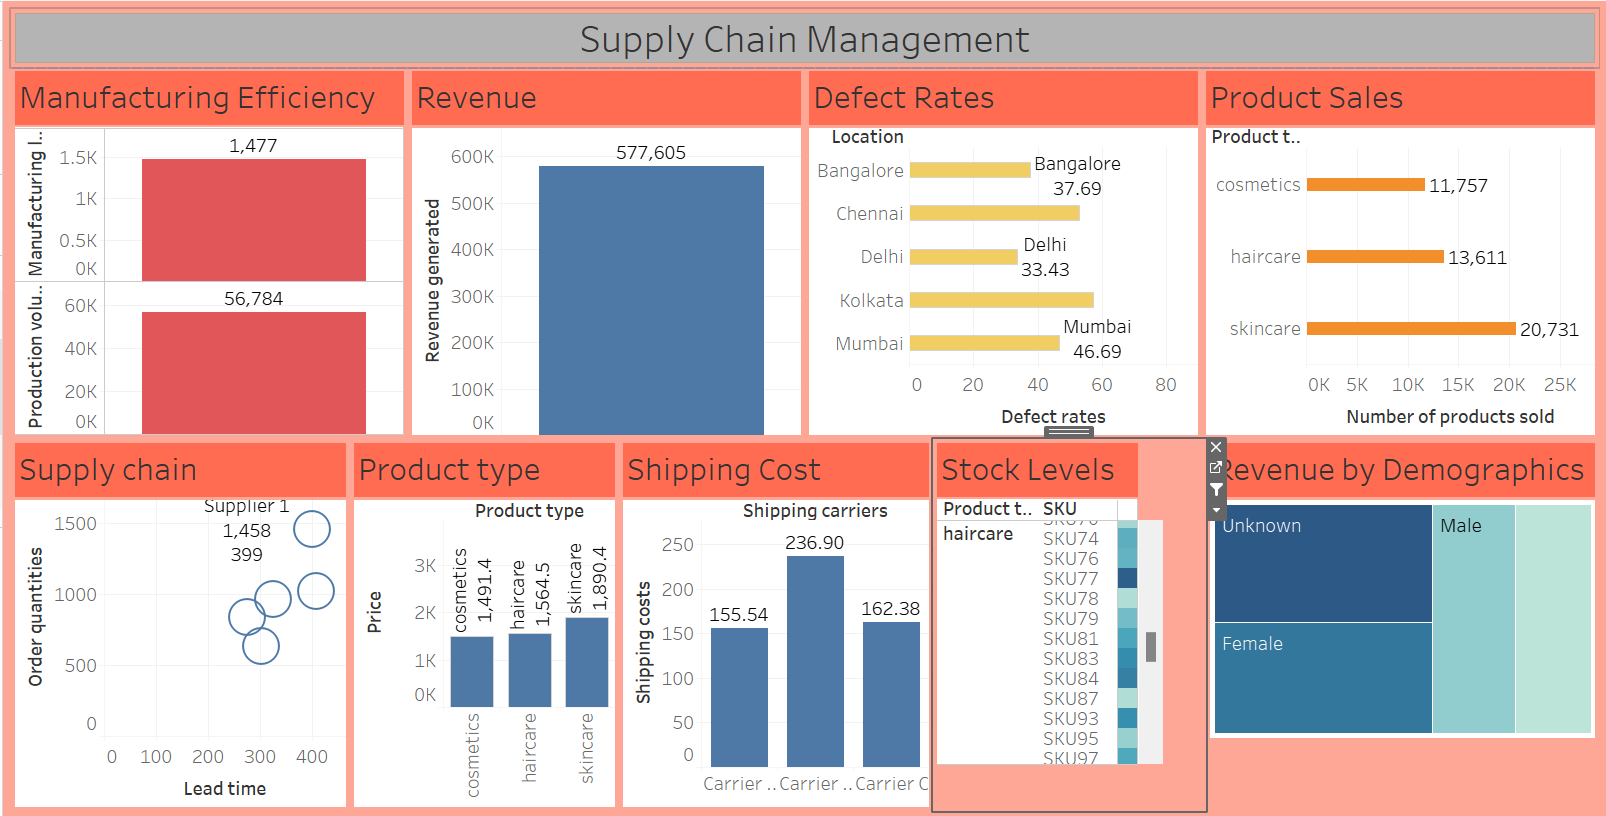

Layout of this report page (visuals, bound fields, positions):
{"tool":"tableau","page":{"name":"Dashboard 1","canvas":[1000,1000],"units":"permille","ordinal":0},"visuals":[{"type":"title","box":[5,9.8,990,70.9]},{"type":"worksheet","title":"Manufacturing Efficiency","mark":"Bar","rows":["Manufacturing lead time","Production volumes"],"box":[5,80.7,247.4,454.7]},{"type":"worksheet","title":"Revenue ","mark":"Automatic","rows":["Revenue generated"],"box":[252.4,80.7,247.5,454.7]},{"type":"worksheet","title":"Defect Rates","mark":"Automatic","rows":["Location"],"cols":["Defect rates"],"box":[499.9,80.7,247.5,454.7]},{"type":"worksheet","title":"Product Sales","mark":"Automatic","rows":["Product type"],"cols":["Number of products sold"],"box":[747.4,80.7,247.6,454.7]},{"type":"worksheet","title":"Supply chain","mark":"Automatic","rows":["Order quantities"],"cols":["Lead time"],"box":[5,535.4,211.3,454.8]},{"type":"worksheet","title":"Product type","mark":"Automatic","rows":["Price"],"cols":["Product type"],"box":[216.3,535.4,167.7,454.8]},{"type":"worksheet","title":"Shipping Cost","mark":"Automatic","rows":["Shipping costs"],"cols":["Shipping carriers"],"box":[384,535.4,195.8,454.8]},{"type":"worksheet","title":"Stock Levels","mark":"Automatic","rows":["Product type","SKU"],"box":[579.8,535.4,170.2,454.8]},{"type":"worksheet","title":"Revenue by Demographics","mark":"Automatic","box":[749.9,535.4,245.1,454.8]}]}

Visuals, with their boxes on the dashboard's canvas, which has no fixed pixel size, in thousandths of its width and height (x1, y1, x2, y2). These are canvas units, not pixel positions in the 1606x816 screenshot, which may show the page scaled, cropped or inside an application window:
title: crop(5, 10, 995, 81)
"Manufacturing Efficiency" worksheet (Bar marks): crop(5, 81, 252, 535)
"Revenue " worksheet: crop(252, 81, 500, 535)
"Defect Rates" worksheet: crop(500, 81, 747, 535)
"Product Sales" worksheet: crop(747, 81, 995, 535)
"Supply chain" worksheet: crop(5, 535, 216, 990)
"Product type" worksheet: crop(216, 535, 384, 990)
"Shipping Cost" worksheet: crop(384, 535, 580, 990)
"Stock Levels" worksheet: crop(580, 535, 750, 990)
"Revenue by Demographics" worksheet: crop(750, 535, 995, 990)
